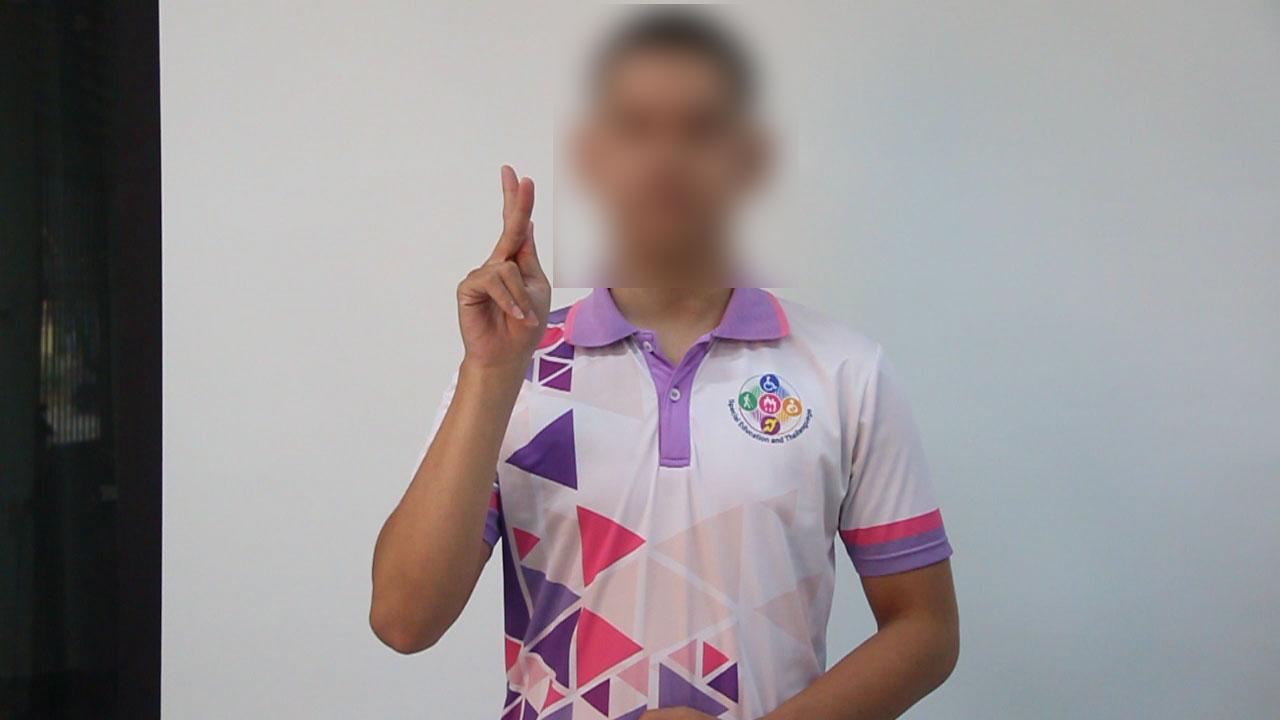ko: (421, 138, 569, 389)
